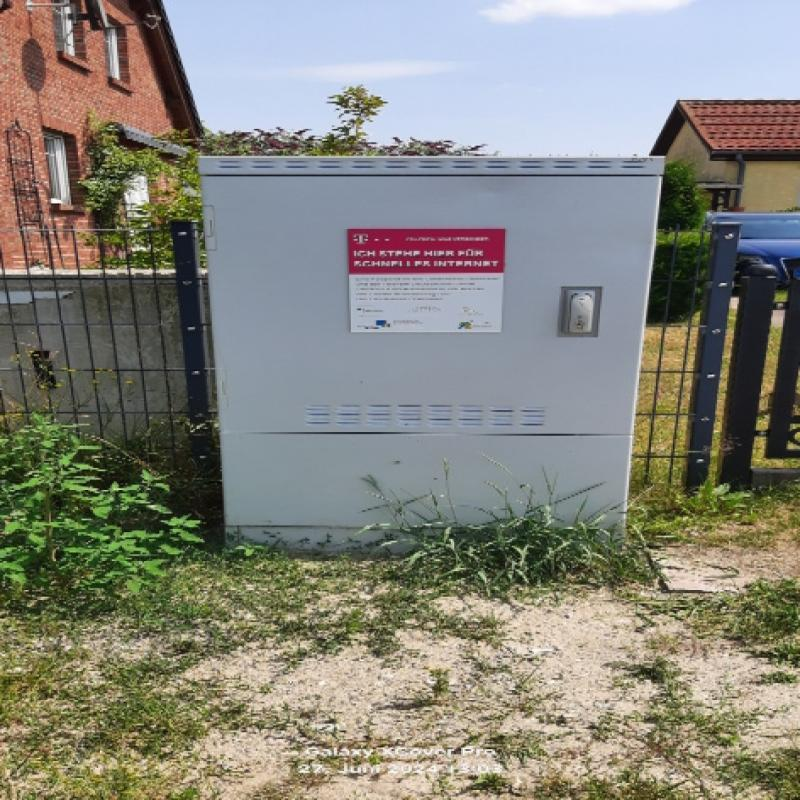NT-Gehause: (195, 159, 647, 557)
Steaker: (346, 230, 507, 336)
